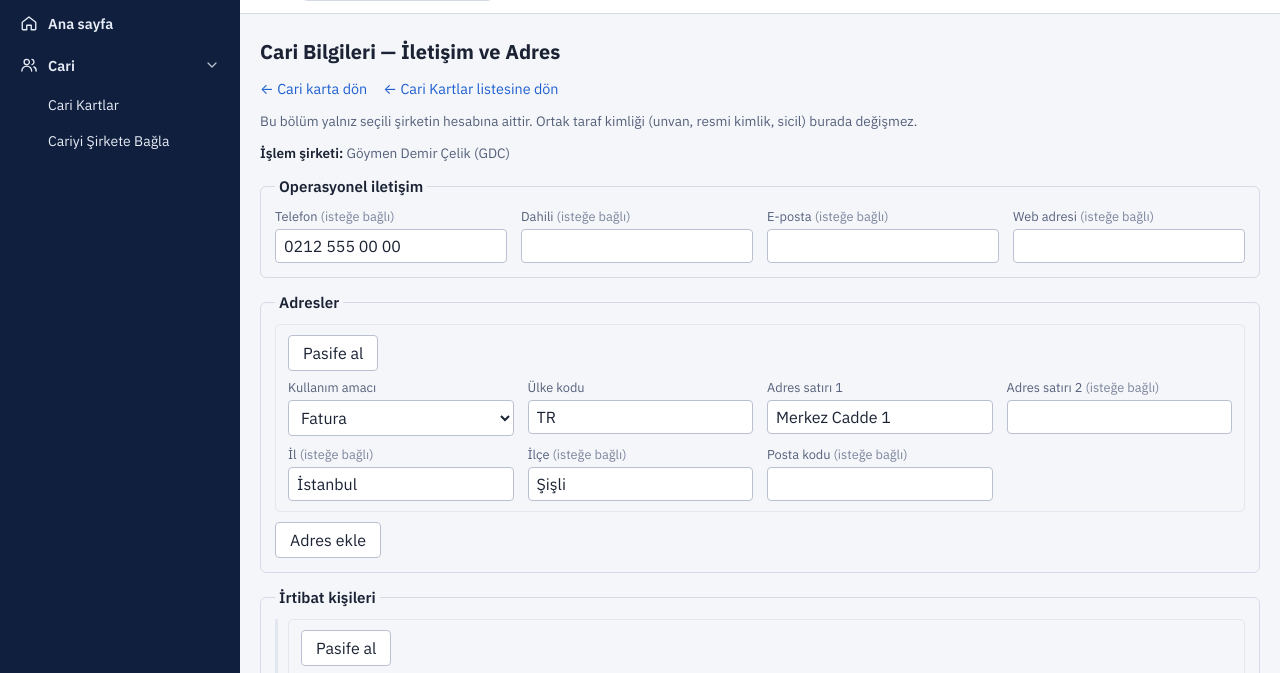
C-06 save — only what changed, then a fresh read › sends the corrected field alone, fenced on the account version, and re-reads after 204
Replace the text in the field with id "cari-contact-phone" with "+90 212 555 00 01" at (391, 246), box [275, 229, 507, 263]
(page scrolled)
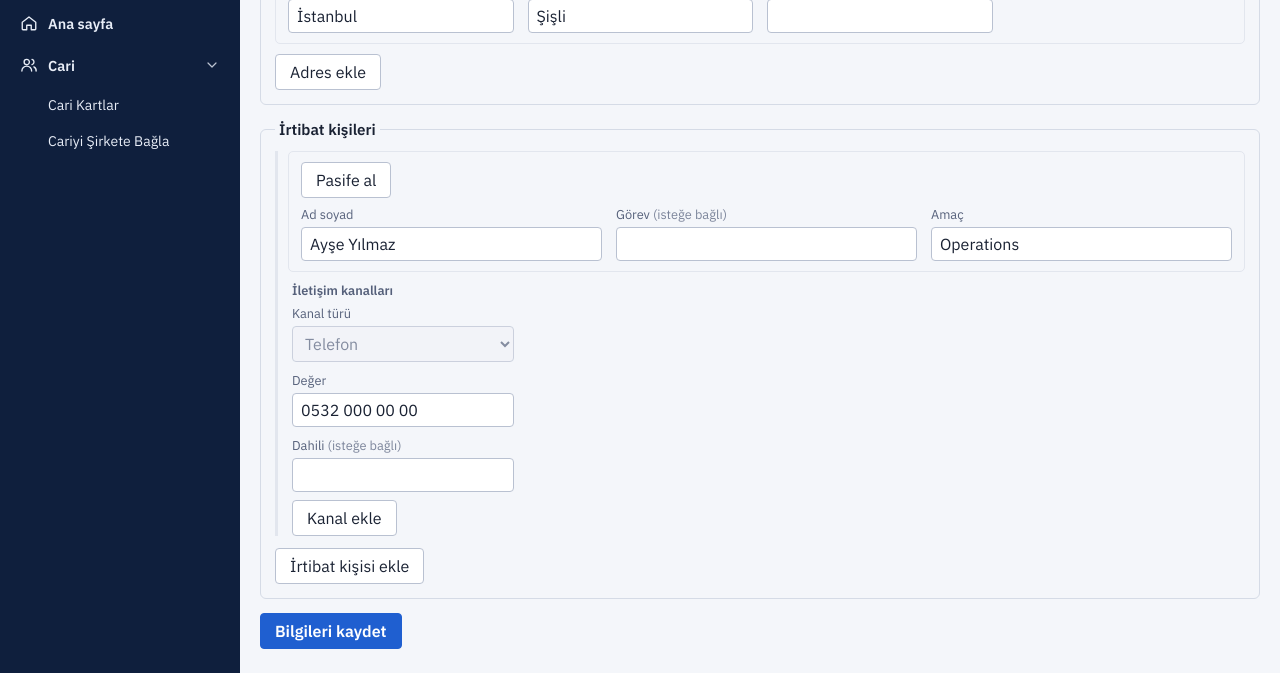
Result: the button "Bilgileri kaydet" is enabled
Click the button "Bilgileri kaydet".
click(331, 631)  # box [260, 613, 402, 649]
(page scrolled)
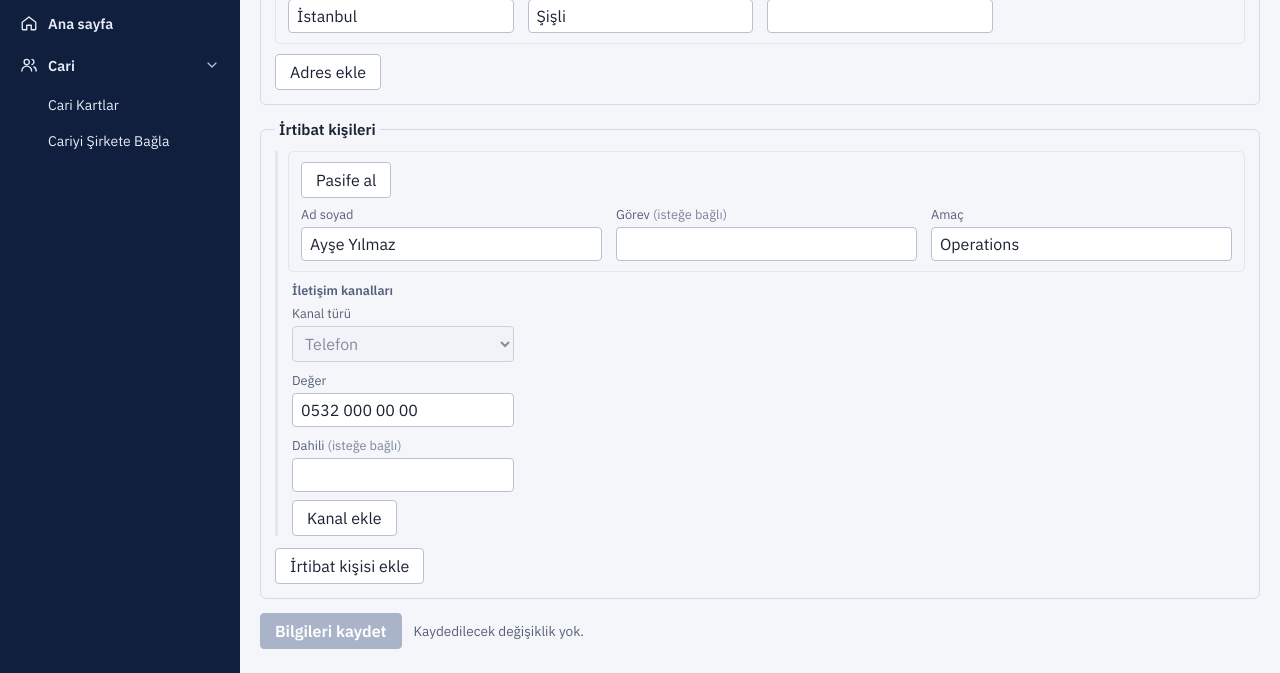
Result: the button "Bilgileri kaydet" is disabled at [260, 613, 402, 649]
